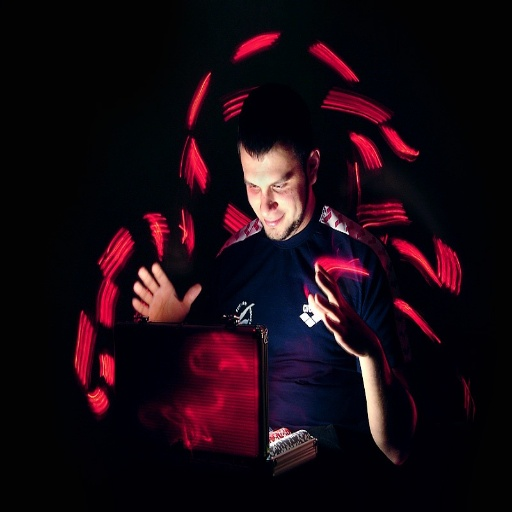hand: (307, 261, 378, 356), (126, 269, 192, 325)
